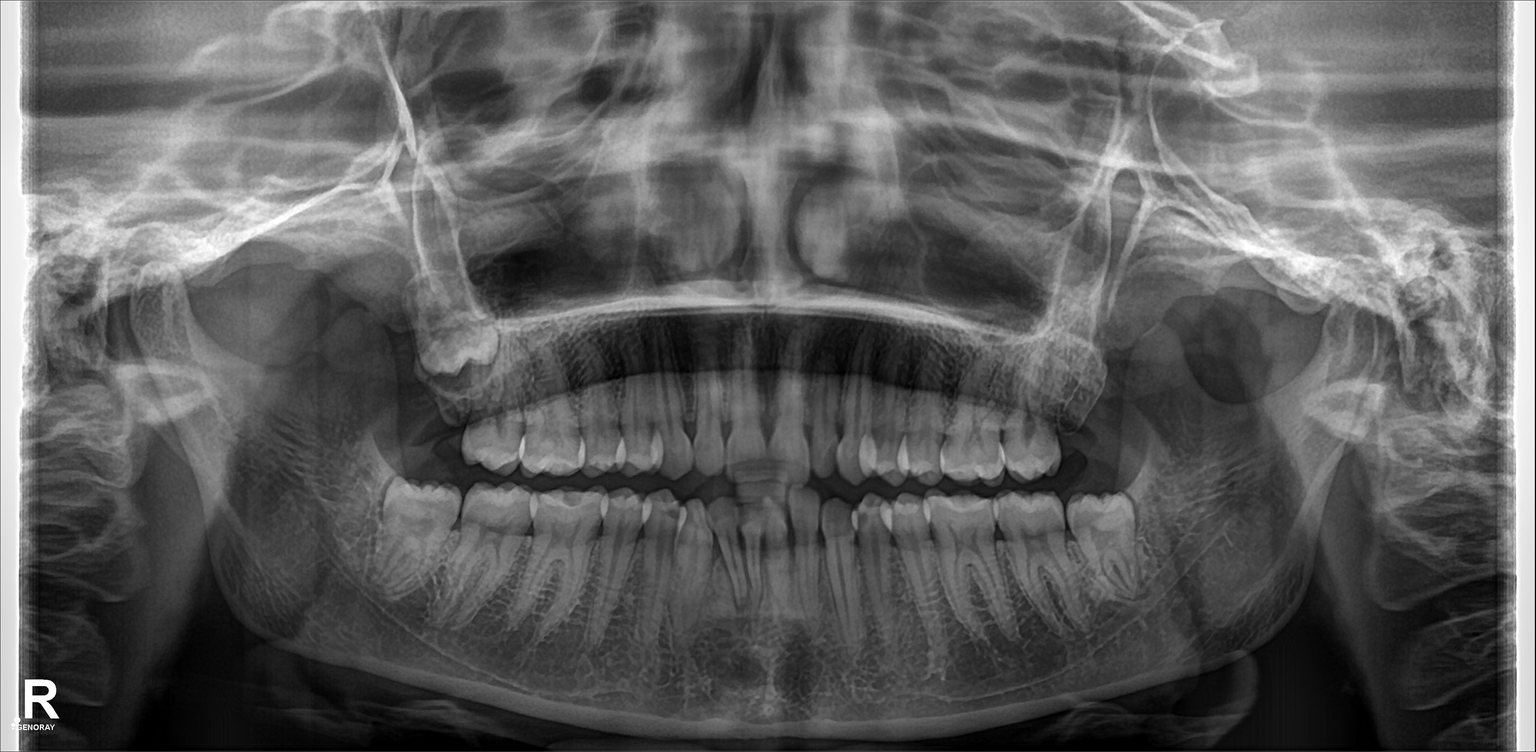Missing Tooth: (406, 370, 466, 457), (1073, 374, 1108, 463)
